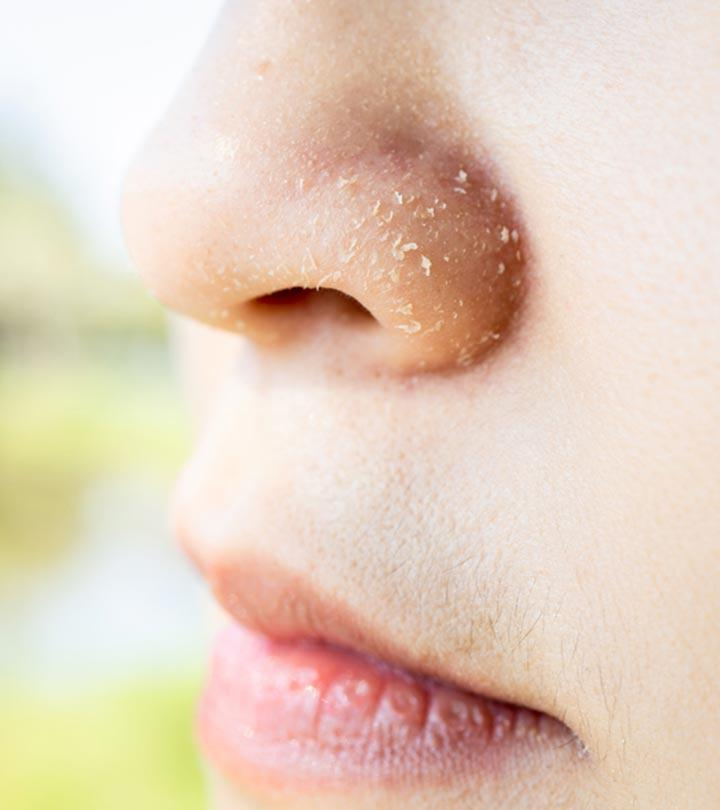Dry-Skin: (276, 83, 582, 366)
